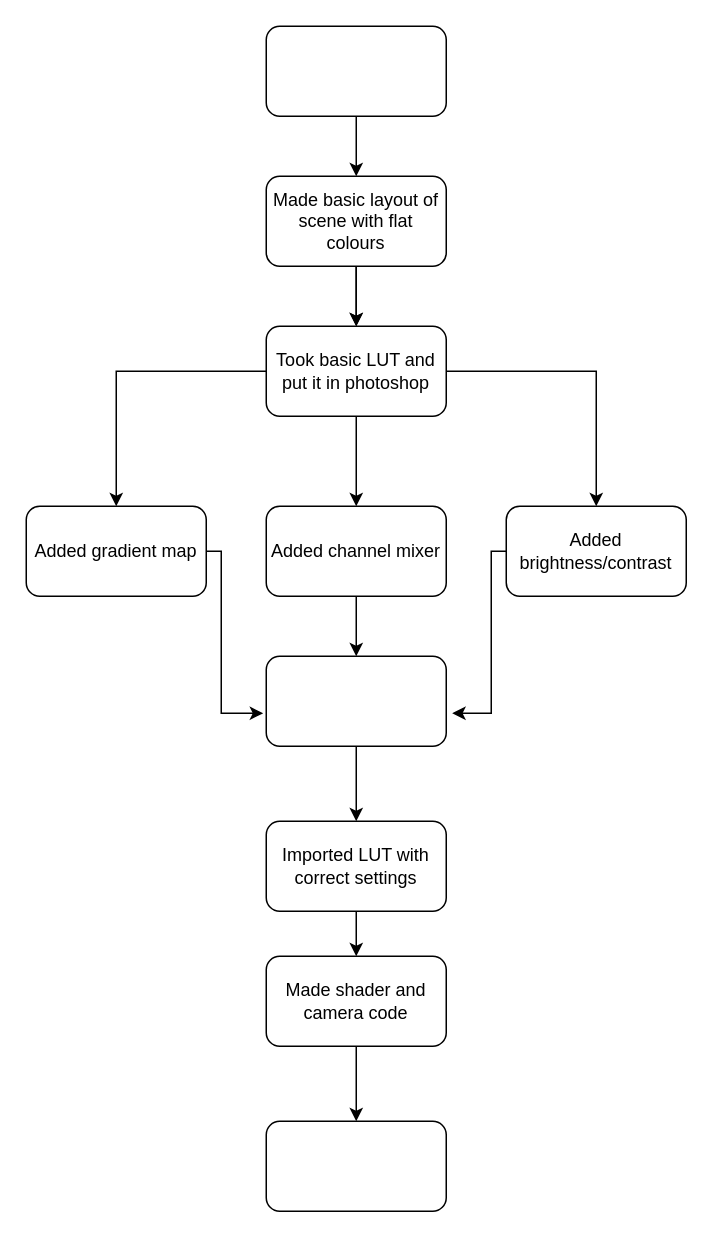
This 713x1238 diagram has some shape labels left out. The box of each missing label's shape, as (x1, y1, x2, y2) in pixels:
Added to camera: (265, 1120, 446, 1211)
Adjusted values to get best results: (265, 655, 446, 746)
Colour Grading: (265, 25, 446, 116)
